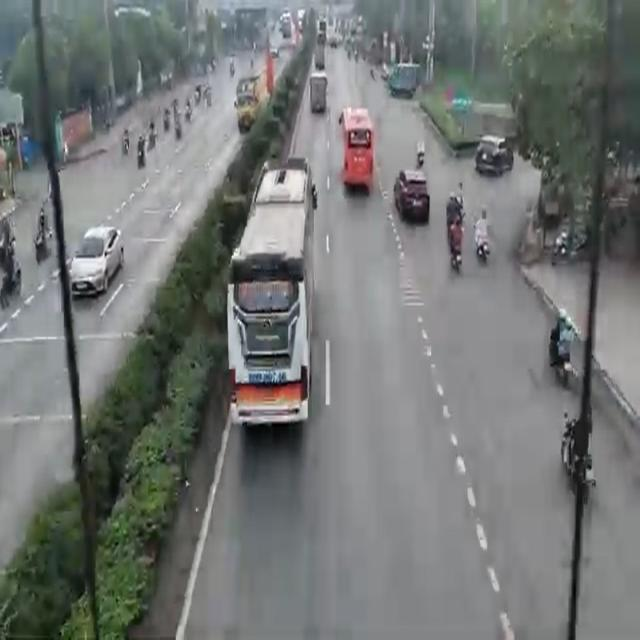bus: (236, 157, 311, 436), (337, 104, 377, 196)
car: (70, 228, 120, 300), (394, 164, 425, 227), (478, 135, 511, 170)
motor: (562, 414, 596, 498), (547, 322, 576, 392), (477, 202, 491, 261), (134, 129, 148, 174), (454, 216, 462, 270)
truck: (308, 70, 327, 117)
